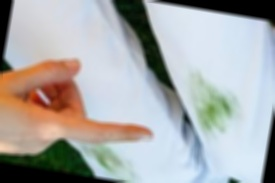earth: (199, 92, 234, 132), (91, 147, 121, 170)
